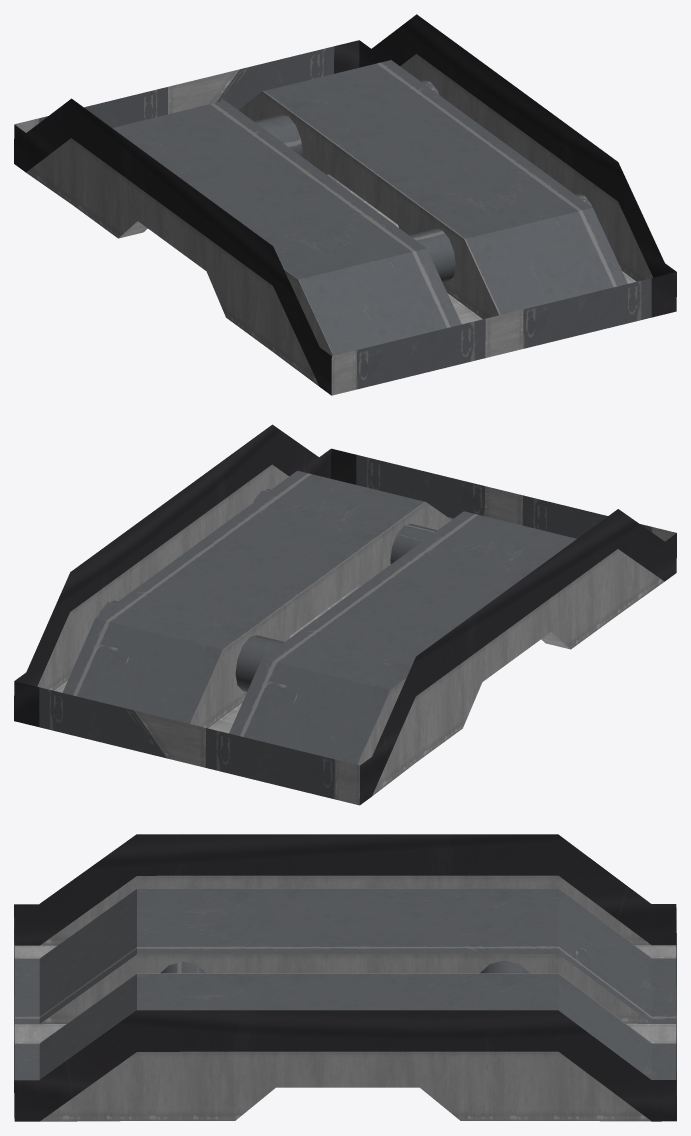
File: floor_s_broke.FBX
The picture shows the model from 3 angles, top to bottom: view 1: azimuth 30°, elevation 25°; view 2: azimuth 150°, elevation 25°; view 3: azimuth 270°, elevation 25°; orthographic projection. The views are drawn at different scales.
Parts seen in each view (by area): view 1: Object025; view 2: Object025; view 3: Object025.
Boxes of the visible parts, x1,y1,x2,y2 form: Object025: (14,14,676,395); Object025: (14,424,676,805); Object025: (14,834,676,1121).
Size of the model in its own units: 301 by 88.91 by 478.
1 material, 1 textured.
